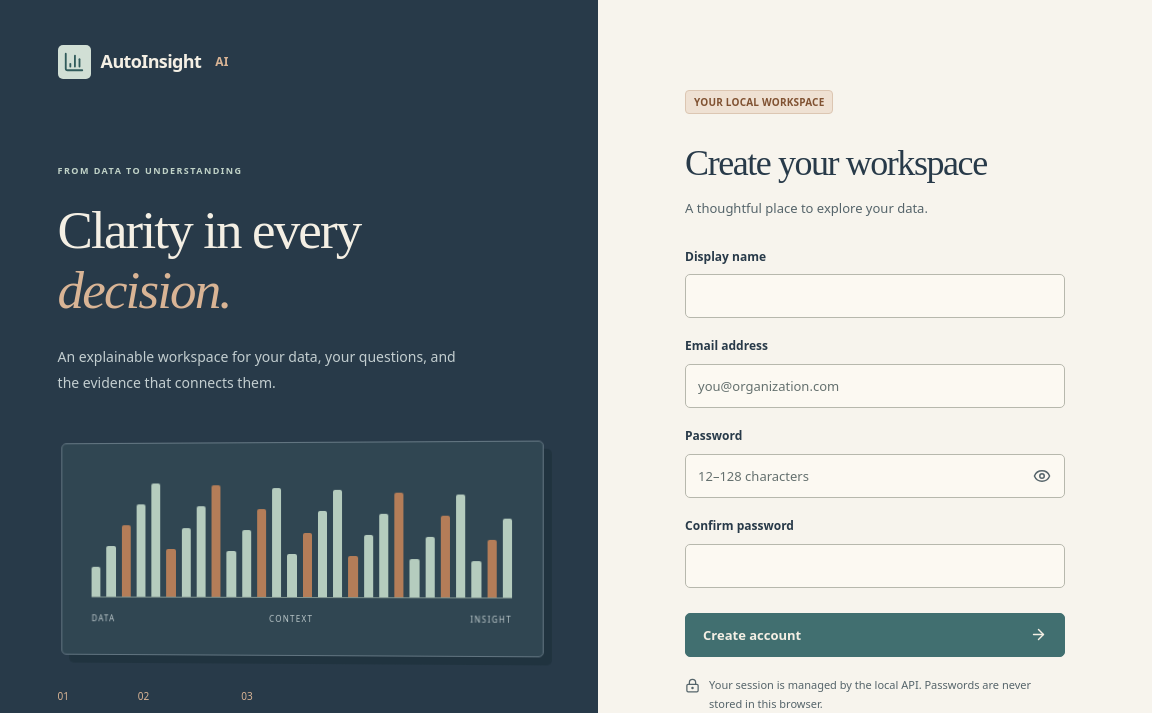
Test case: real authentication integration › registers only valid matching credentials, uses CSRF and shows real zero counts
Click the button "Create account": [752, 635] box [685,613,1065,657]
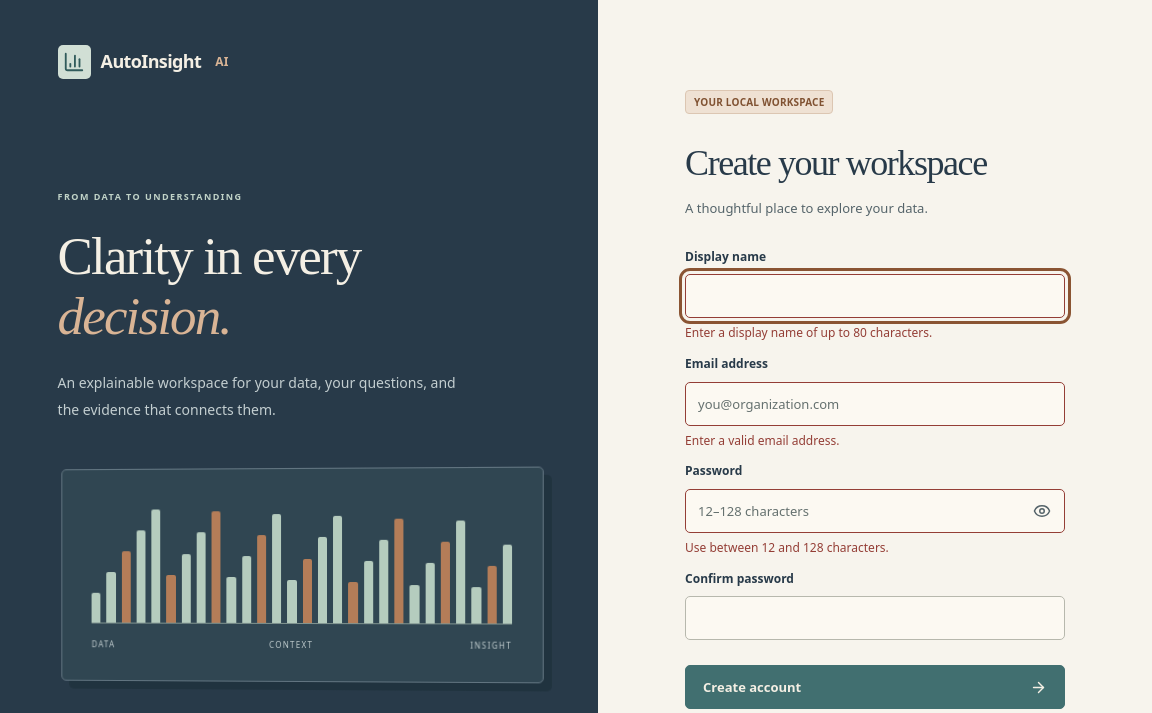
In the field labelled "Display name": [875, 296] box [685,274,1065,318], type "Real Analyst"
In the field labelled "Email address": [875, 404] box [685,382,1065,426], type "analyst@example.com"
In the password field labelled "Password": [875, 511] box [685,489,1065,533], type "a long test passphrase"
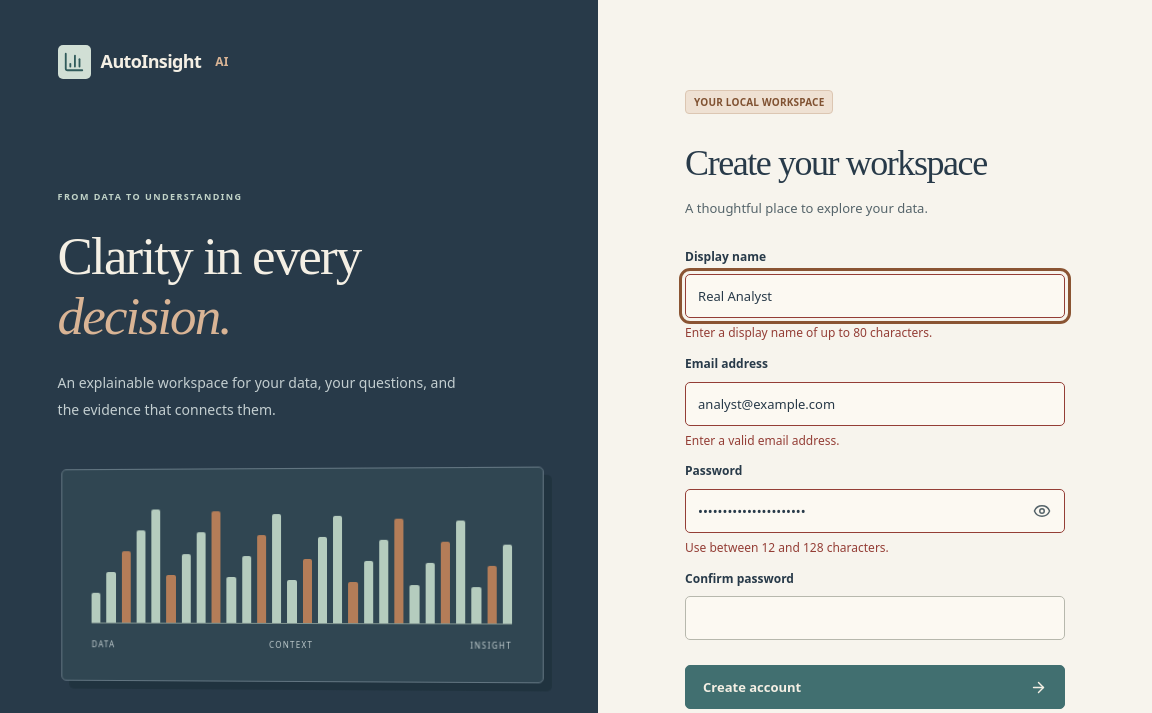
In the password field labelled "Confirm password": [875, 618] box [685,596,1065,640], type "mismatch"
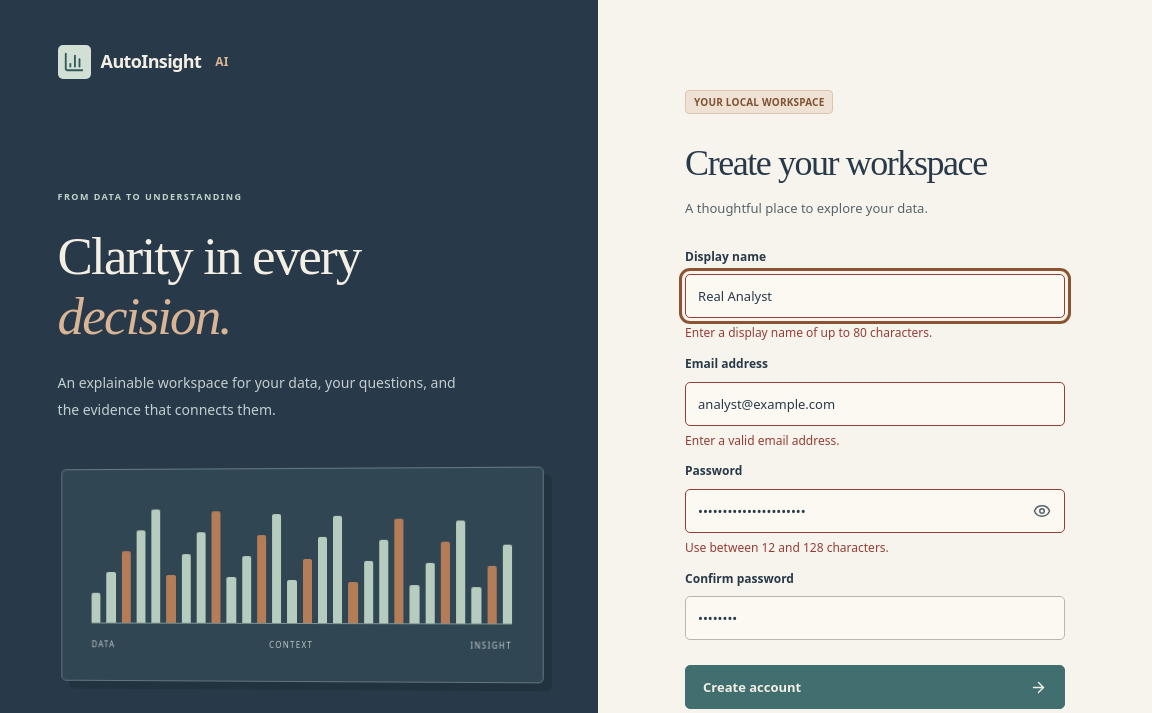
Click the button "Create account": [752, 687] box [685,666,1065,710]
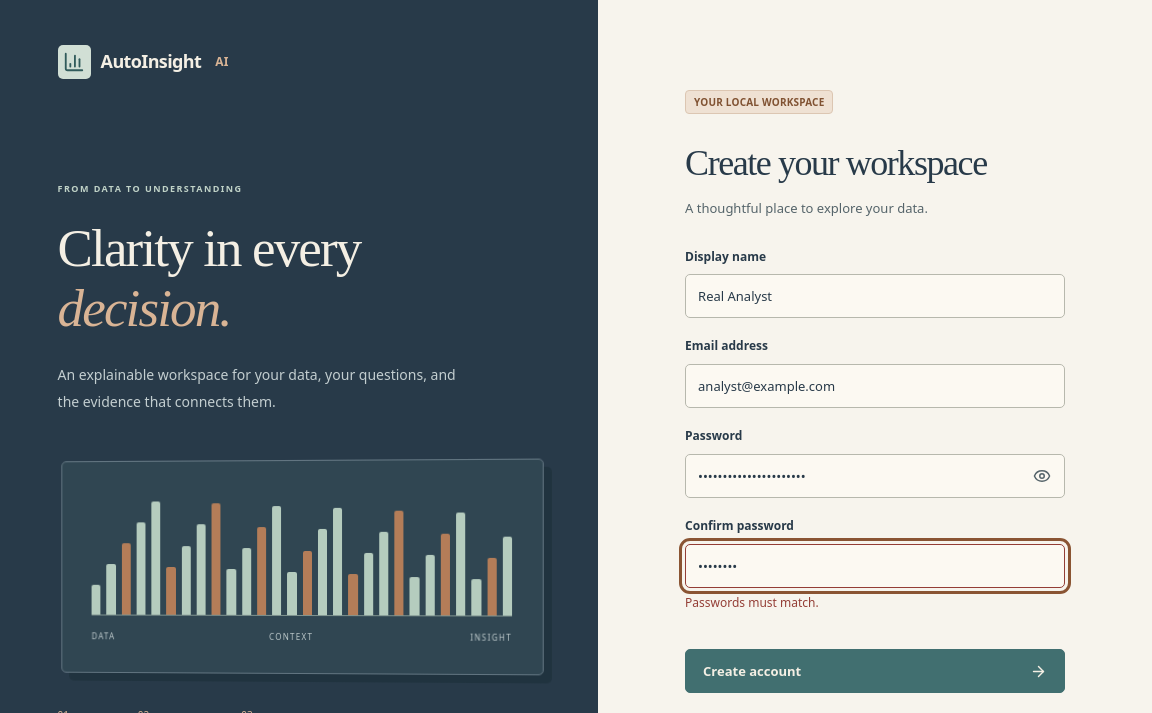
Result: the text "Passwords must match." is shown at [685,594,819,611]
In the password field labelled "Confirm password": [875, 566] box [685,544,1065,588], type "a long test passphrase"
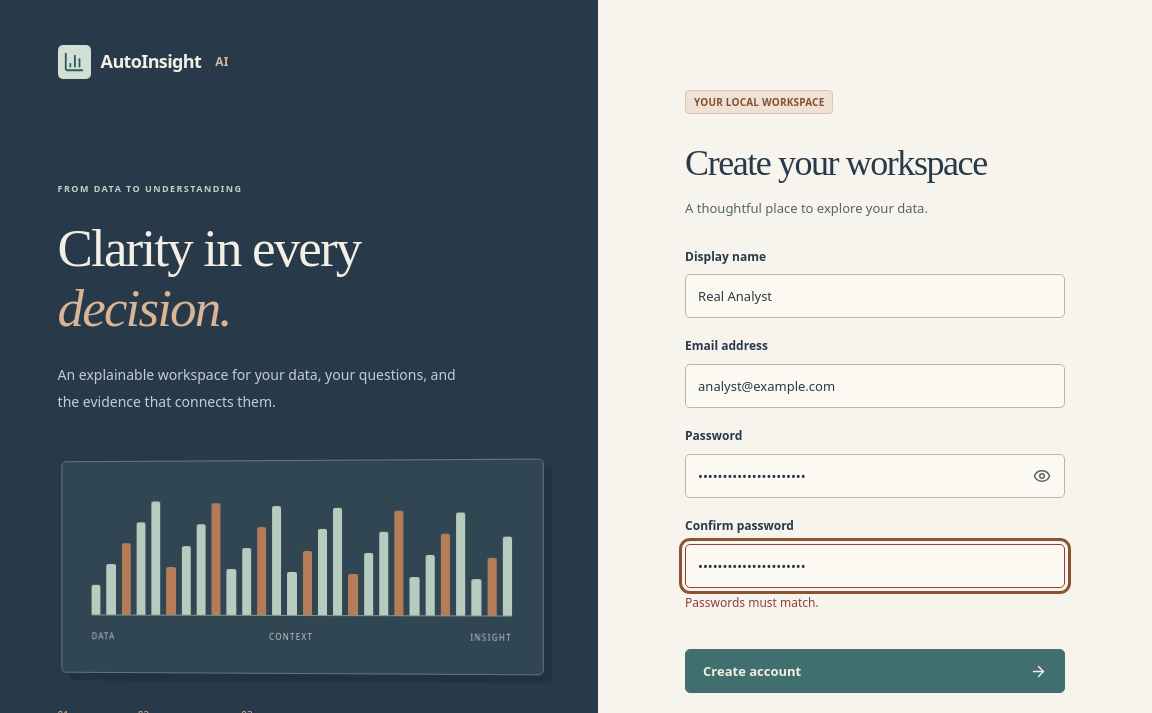
Click the button "Create account": [752, 671] box [685,649,1065,693]
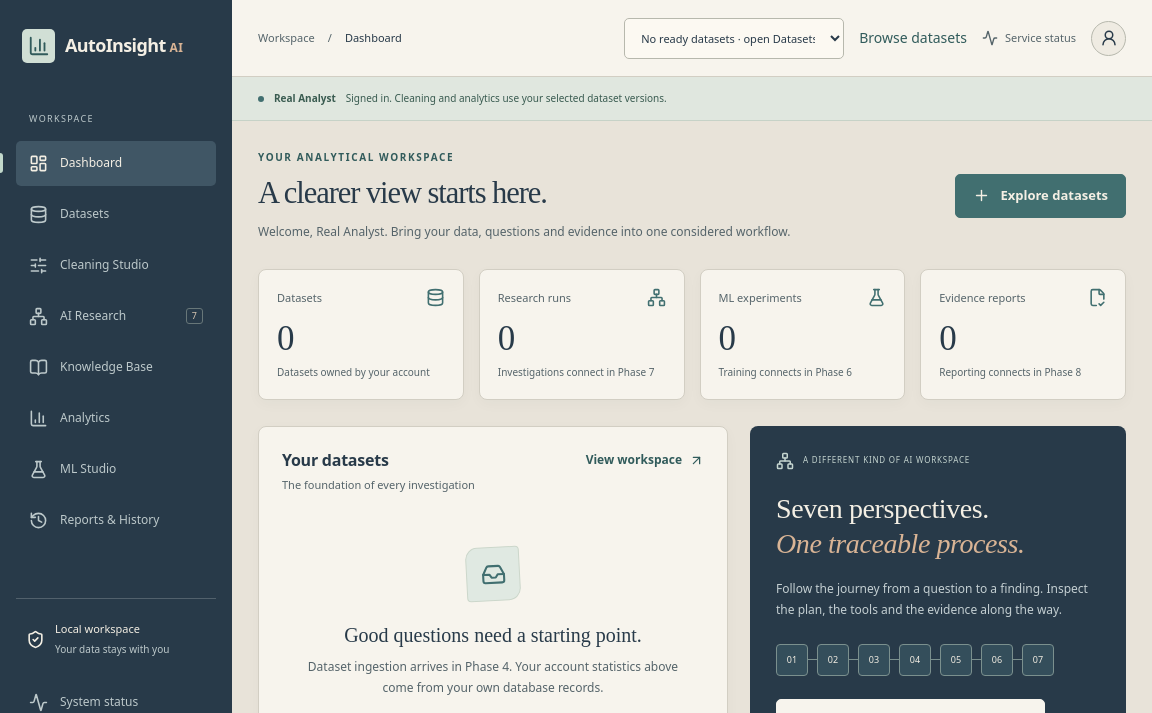
Result: the heading "A clearer view starts here." is shown at [258,176,547,210]
